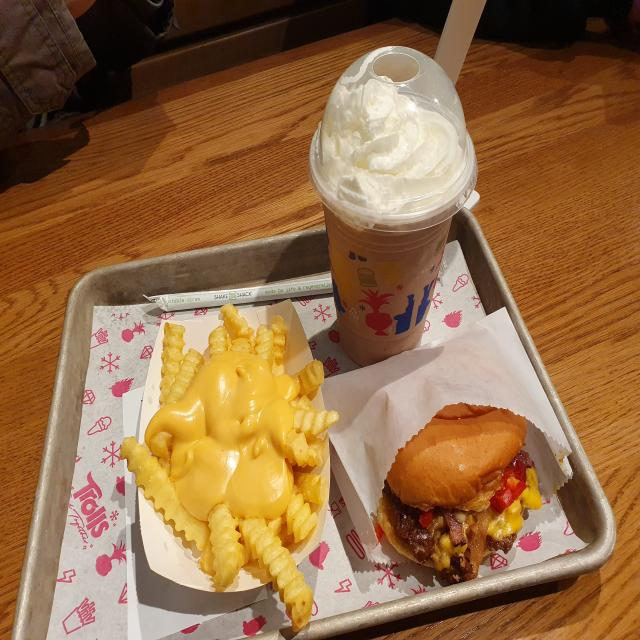Cup: (307, 45, 478, 368)
Plate: (136, 297, 331, 594)
